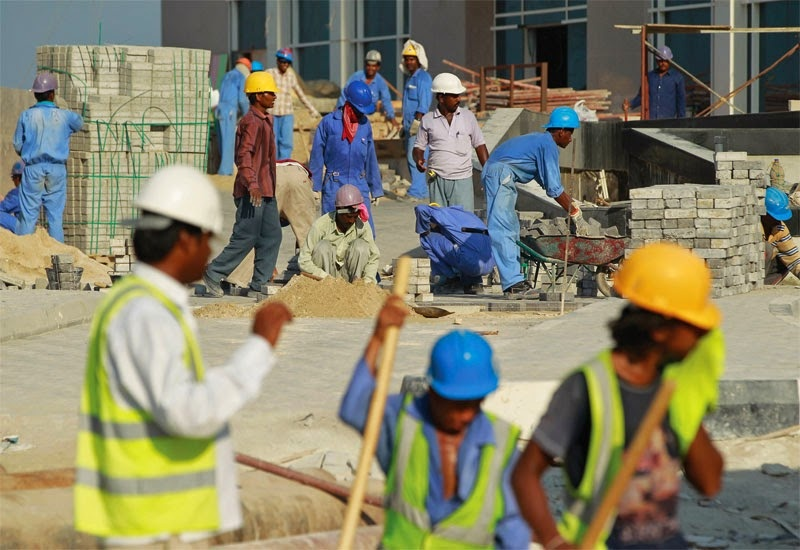blue: (427, 330, 500, 432), (543, 104, 579, 150), (338, 81, 377, 122), (757, 188, 790, 232), (273, 45, 296, 73)
white: (130, 163, 224, 287), (430, 71, 466, 114), (364, 50, 382, 76)
yellow: (612, 237, 720, 368), (243, 71, 277, 111), (399, 43, 422, 71)
